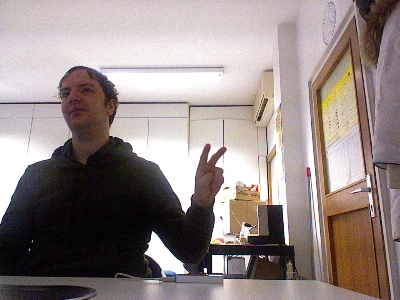剪刀: (191, 142, 226, 205)
